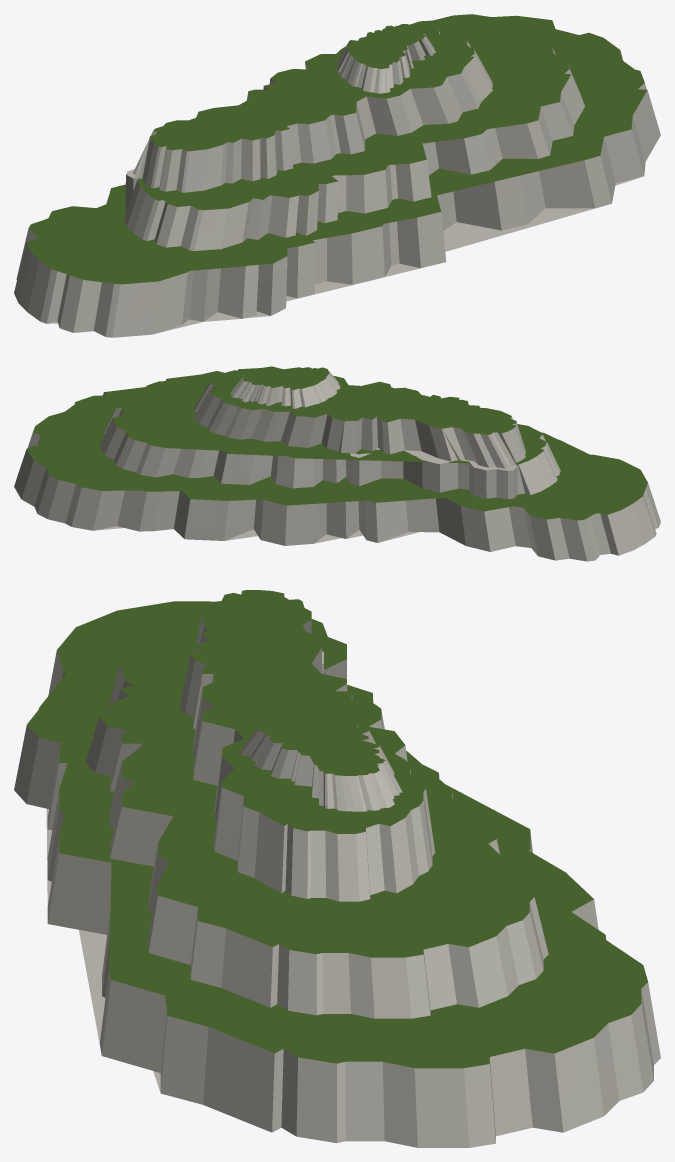
The model's file is Terrain_Hill_Jagged_Rock_Grass_01.fbx.
The picture shows the model from 3 angles, top to bottom: view 1: azimuth 30°, elevation 25°; view 2: azimuth 150°, elevation 25°; view 3: azimuth 270°, elevation 25°; orthographic projection. The views are drawn at different scales.
Visible parts, largest first — view 1: Terrain_Hill_Jagged_Rock_Grass_01; view 2: Terrain_Hill_Jagged_Rock_Grass_01; view 3: Terrain_Hill_Jagged_Rock_Grass_01.
Part boxes in pixels (x1,y1,x2,y2): Terrain_Hill_Jagged_Rock_Grass_01: (14, 14, 660, 337); Terrain_Hill_Jagged_Rock_Grass_01: (14, 366, 660, 561); Terrain_Hill_Jagged_Rock_Grass_01: (14, 590, 660, 1147).
Bounding box in the file's own units: 1107 × 216 × 623.
